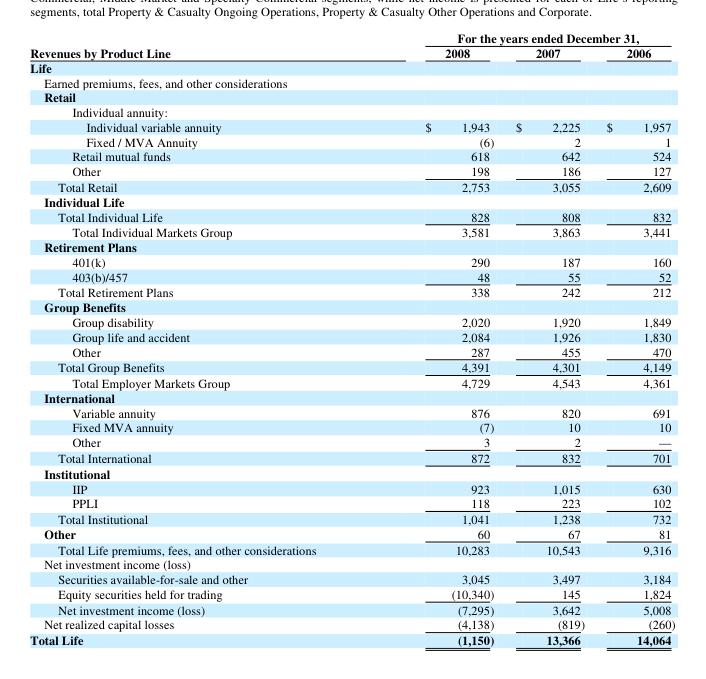table: (29, 29, 674, 648)
table column: (29, 29, 369, 648), (369, 29, 504, 648), (504, 29, 594, 648), (594, 29, 674, 648)
table column header: (29, 29, 674, 60)
table projected row header: (29, 74, 674, 89), (29, 89, 674, 104), (29, 193, 674, 208), (29, 239, 674, 254), (29, 299, 674, 314), (29, 389, 674, 404), (29, 465, 674, 480), (29, 556, 674, 571), (29, 60, 674, 74), (29, 104, 674, 118)
table row: (29, 631, 674, 648), (29, 29, 674, 45), (29, 223, 674, 239), (29, 283, 674, 299), (29, 358, 674, 374), (29, 449, 674, 465), (29, 525, 674, 541), (29, 585, 674, 601), (29, 45, 674, 60), (29, 74, 674, 89), (29, 89, 674, 104), (29, 118, 674, 133), (29, 133, 674, 148), (29, 148, 674, 163), (29, 163, 674, 178), (29, 178, 674, 193), (29, 193, 674, 208), (29, 208, 674, 223), (29, 239, 674, 254), (29, 268, 674, 283), (29, 299, 674, 314), (29, 328, 674, 343), (29, 343, 674, 358), (29, 374, 674, 389), (29, 389, 674, 404), (29, 404, 674, 419), (29, 419, 674, 434), (29, 434, 674, 449), (29, 465, 674, 480), (29, 480, 674, 495), (29, 495, 674, 510), (29, 510, 674, 525), (29, 541, 674, 556), (29, 556, 674, 571), (29, 601, 674, 616), (29, 616, 674, 631), (29, 60, 674, 74), (29, 104, 674, 118), (29, 254, 674, 268), (29, 314, 674, 328), (29, 571, 674, 585)
table spanning cell: (29, 29, 369, 60), (369, 29, 674, 45)
